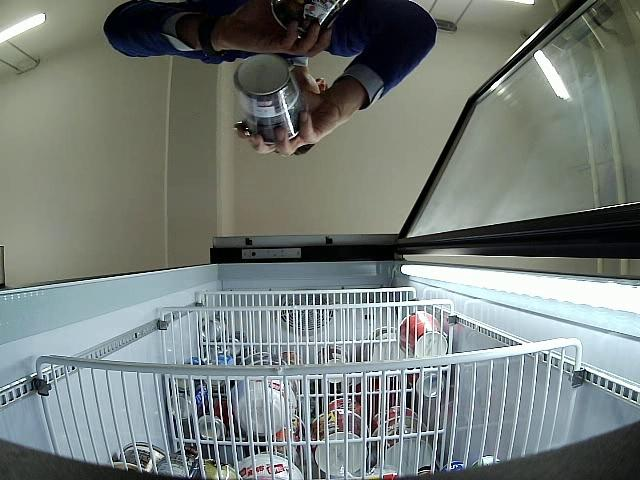00_hand: (233, 79, 361, 158), (216, 0, 332, 57)
08_buldak_S: (235, 54, 307, 143), (272, 0, 348, 39)
